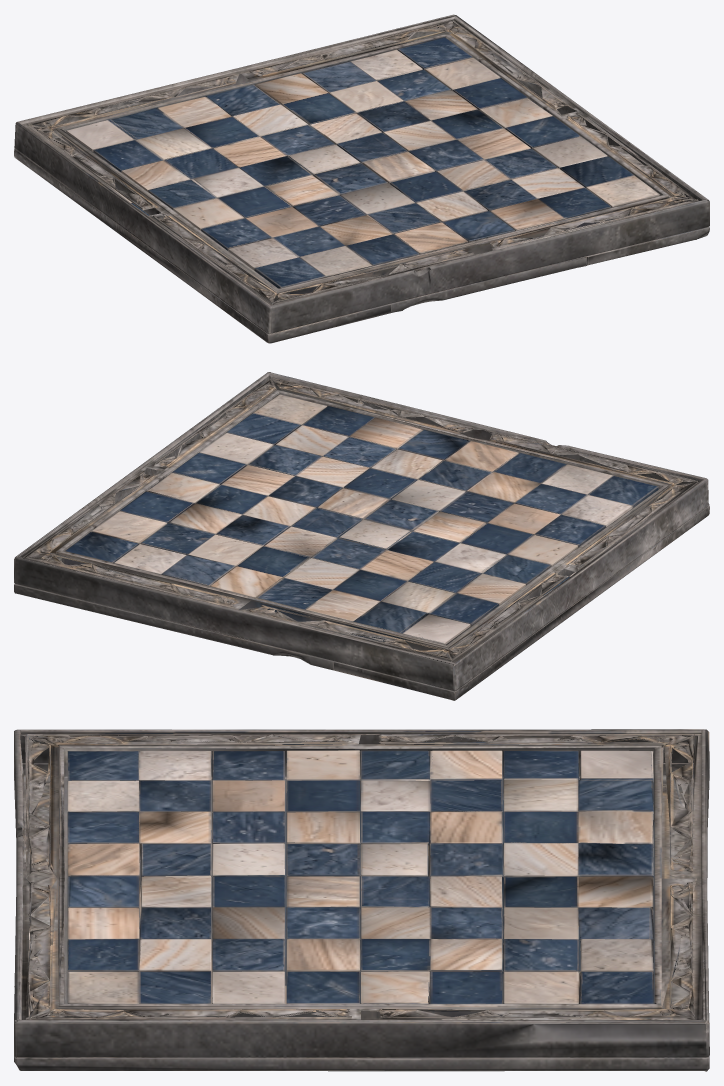
The model's file is Meshy_AI_Weathered_Chessboard_20261114_texture.fbx.
The picture shows the model from 3 angles, top to bottom: view 1: azimuth 30°, elevation 25°; view 2: azimuth 150°, elevation 25°; view 3: azimuth 270°, elevation 25°; orthographic projection. The views are drawn at different scales.
Visible parts, largest first — view 1: Mesh_0; view 2: Mesh_0; view 3: Mesh_0.
Boxes of the visible parts, <box> form: Mesh_0: <box>14,14,709,343</box>; Mesh_0: <box>14,372,709,700</box>; Mesh_0: <box>14,729,709,1071</box>.
Bounding box in the file's own units: 95.26 × 7.62 × 95.21.
Materials: 1 (1 with a texture image).
